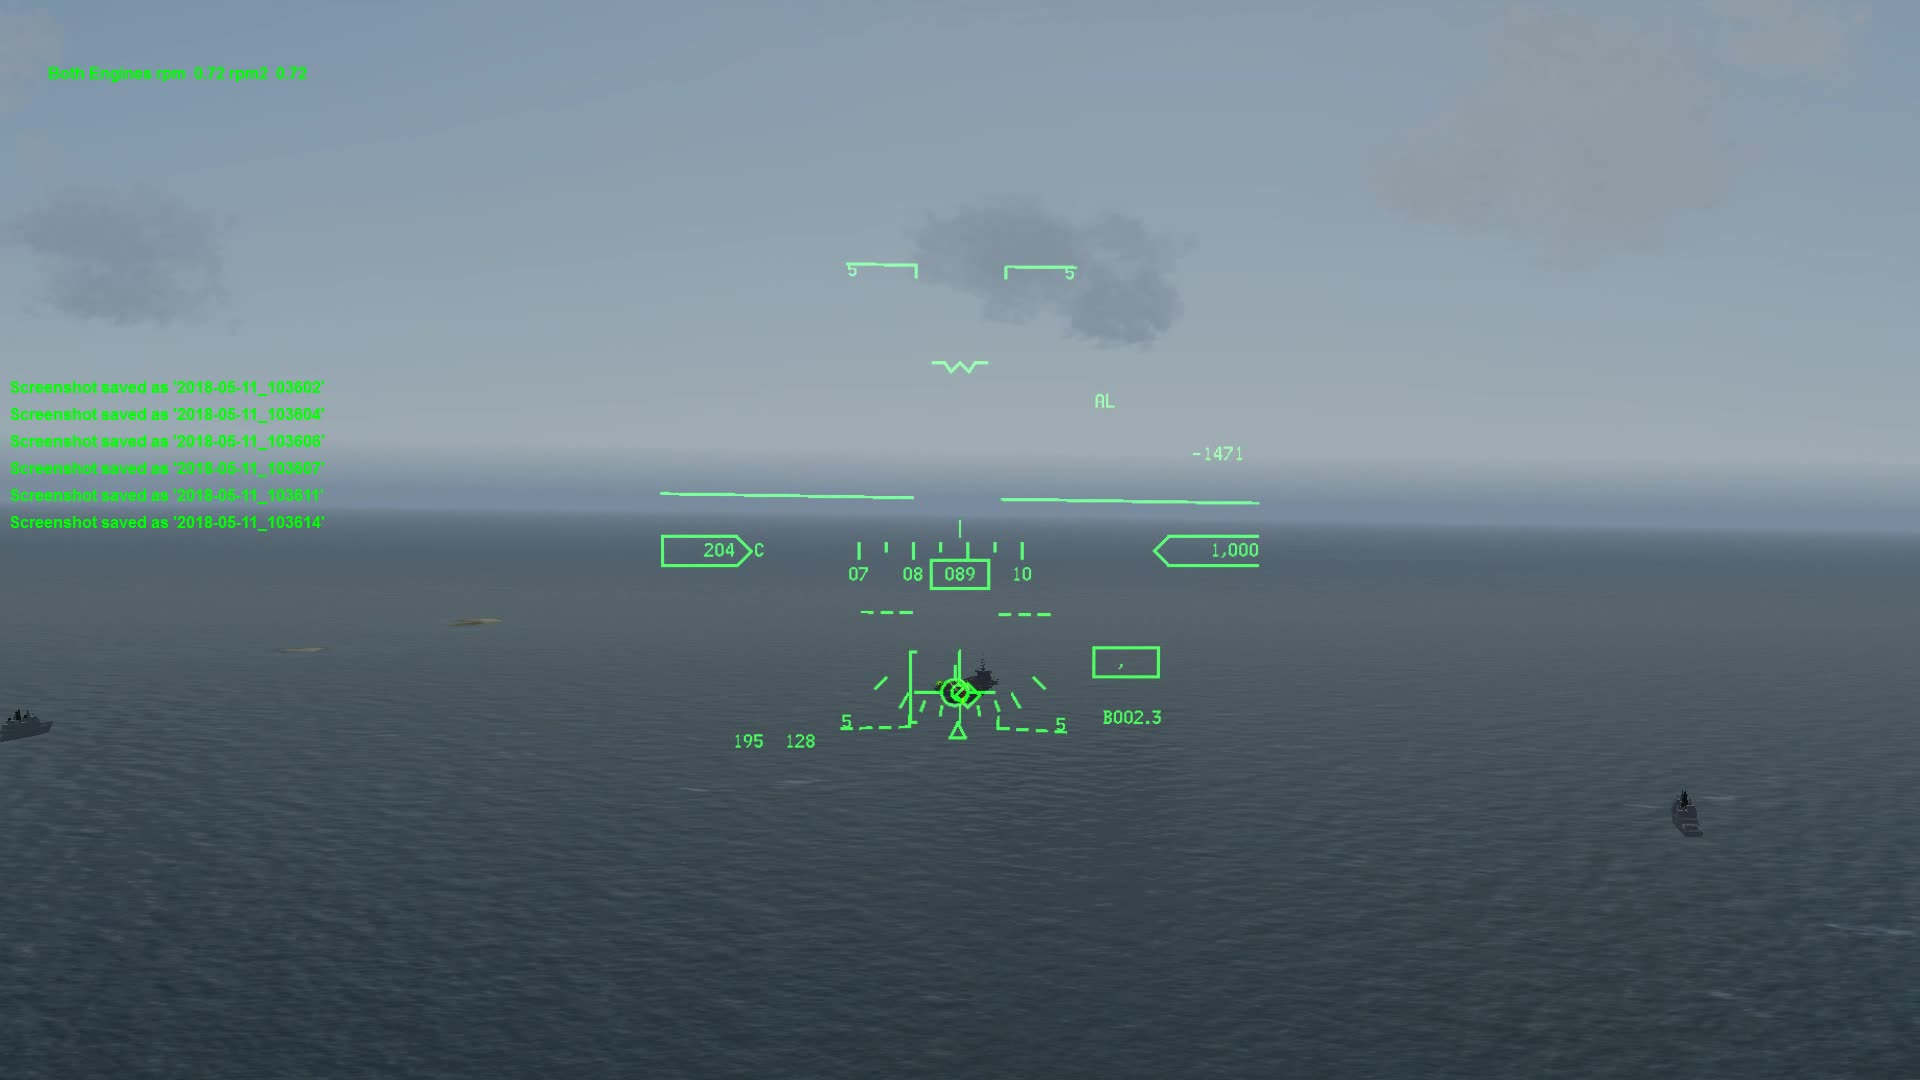speed vector: (910, 665, 1004, 708)
